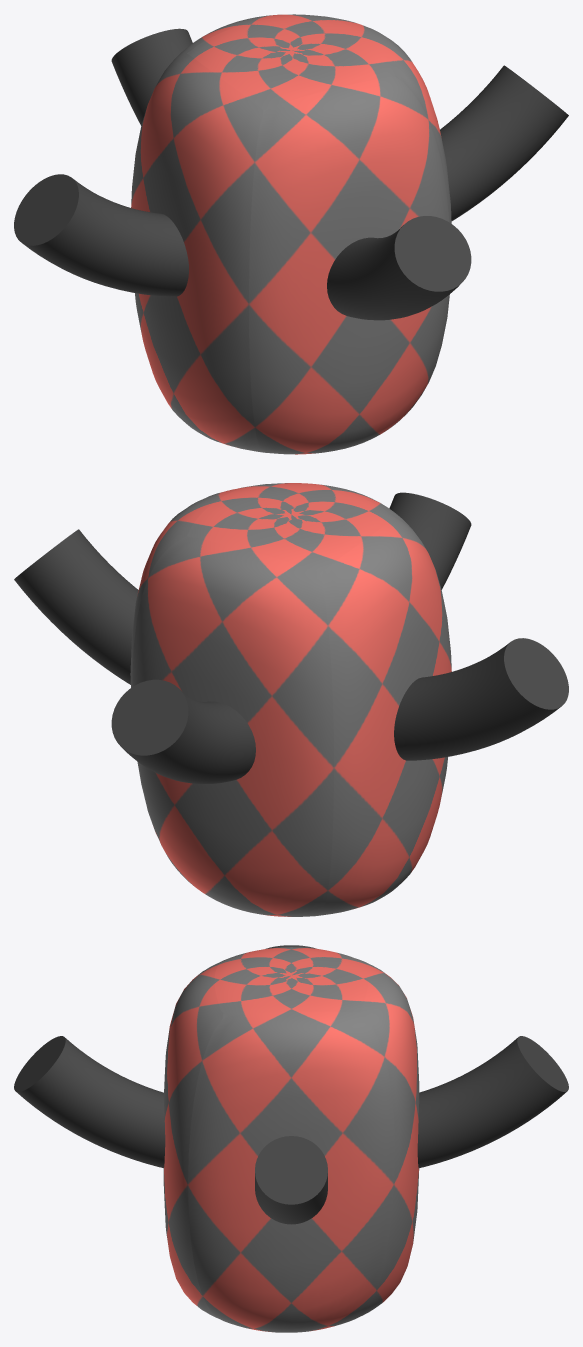
File: Body(Oblong)+Colour(More_Red)+Pattern(Diamond)+Arm_Angle(Bent_Up).fbx
3 renders of one model, top to bottom at view 1: azimuth 30°, elevation 25°; view 2: azimuth 150°, elevation 25°; view 3: azimuth 270°, elevation 25°, orthographic. The views are drawn at different scales.
Visible parts, largest first — view 1: Body(Oblong)+Colour(More_Red)+Pattern(Diamond)+Arm_Angle(Ben (×5); view 2: Body(Oblong)+Colour(More_Red)+Pattern(Diamond)+Arm_Angle(Ben (×5); view 3: Body(Oblong)+Colour(More_Red)+Pattern(Diamond)+Arm_Angle(Ben (×4).
Boxes of the visible parts, x1,y1,x2,y2 form: Body(Oblong)+Colour(More_Red)+Pattern(Diamond)+Arm_Angle(Ben (×5): (14, 14, 568, 454); Body(Oblong)+Colour(More_Red)+Pattern(Diamond)+Arm_Angle(Ben (×5): (14, 483, 568, 916); Body(Oblong)+Colour(More_Red)+Pattern(Diamond)+Arm_Angle(Ben (×4): (14, 947, 568, 1332).
Size of the model in its own units: 60.67 by 40 by 60.67.
2 materials, 2 textured.
